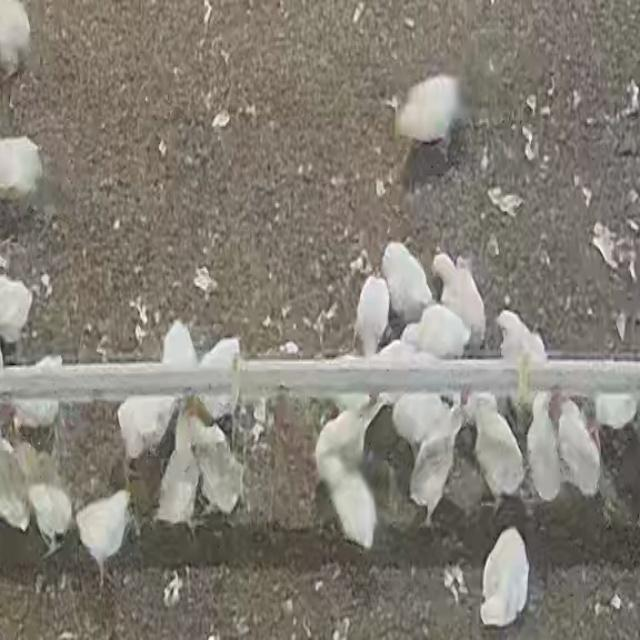chicken: (468, 391, 530, 516), (408, 403, 467, 525), (190, 414, 252, 524), (394, 71, 464, 161), (320, 456, 382, 555), (153, 409, 201, 535), (434, 245, 491, 350), (478, 523, 532, 629), (78, 488, 134, 584), (524, 392, 567, 514), (558, 397, 605, 503), (381, 238, 435, 322), (352, 275, 391, 353)
